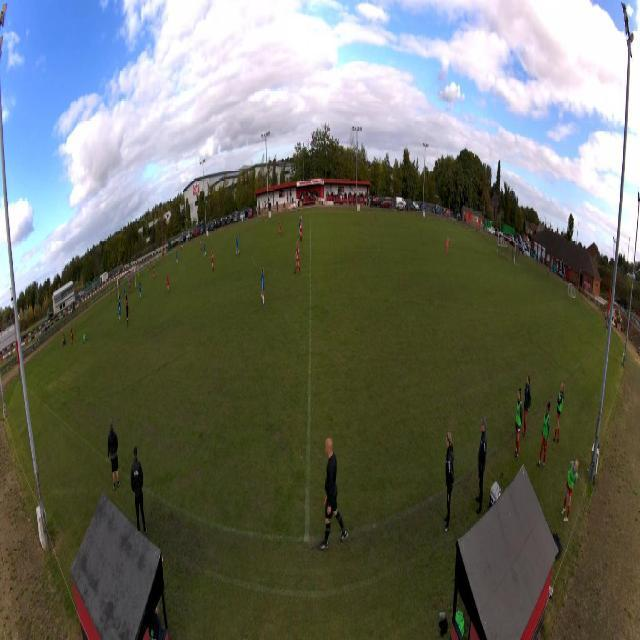ball: (138, 273, 139, 277)
player: (294, 241, 302, 277), (260, 268, 266, 309), (235, 233, 240, 257), (299, 216, 303, 243), (166, 270, 170, 295), (211, 249, 215, 273), (298, 215, 302, 237), (278, 218, 282, 239), (126, 302, 129, 330), (446, 235, 450, 256), (203, 239, 207, 259), (118, 301, 121, 325), (175, 249, 179, 264), (139, 280, 142, 300), (82, 333, 87, 345), (71, 328, 74, 346), (126, 293, 129, 309), (123, 283, 126, 298), (118, 295, 121, 307), (200, 236, 202, 252), (153, 267, 155, 281), (129, 280, 131, 294), (129, 278, 131, 290)
